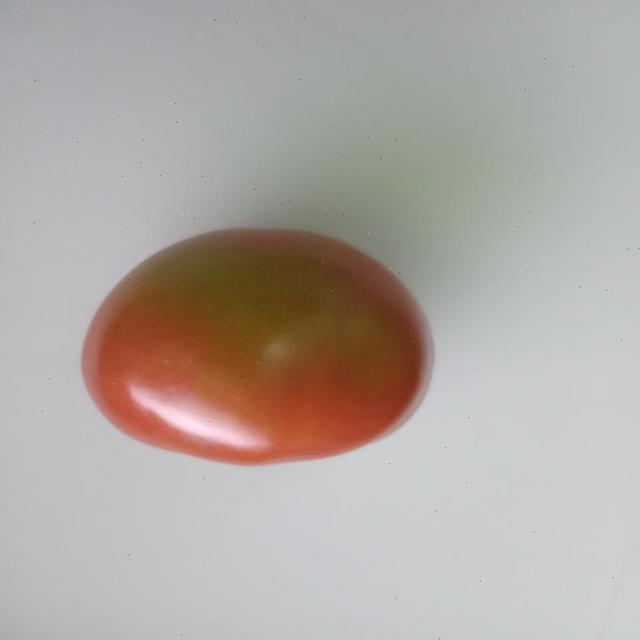Healthy Fruit: (51, 145, 294, 318)
